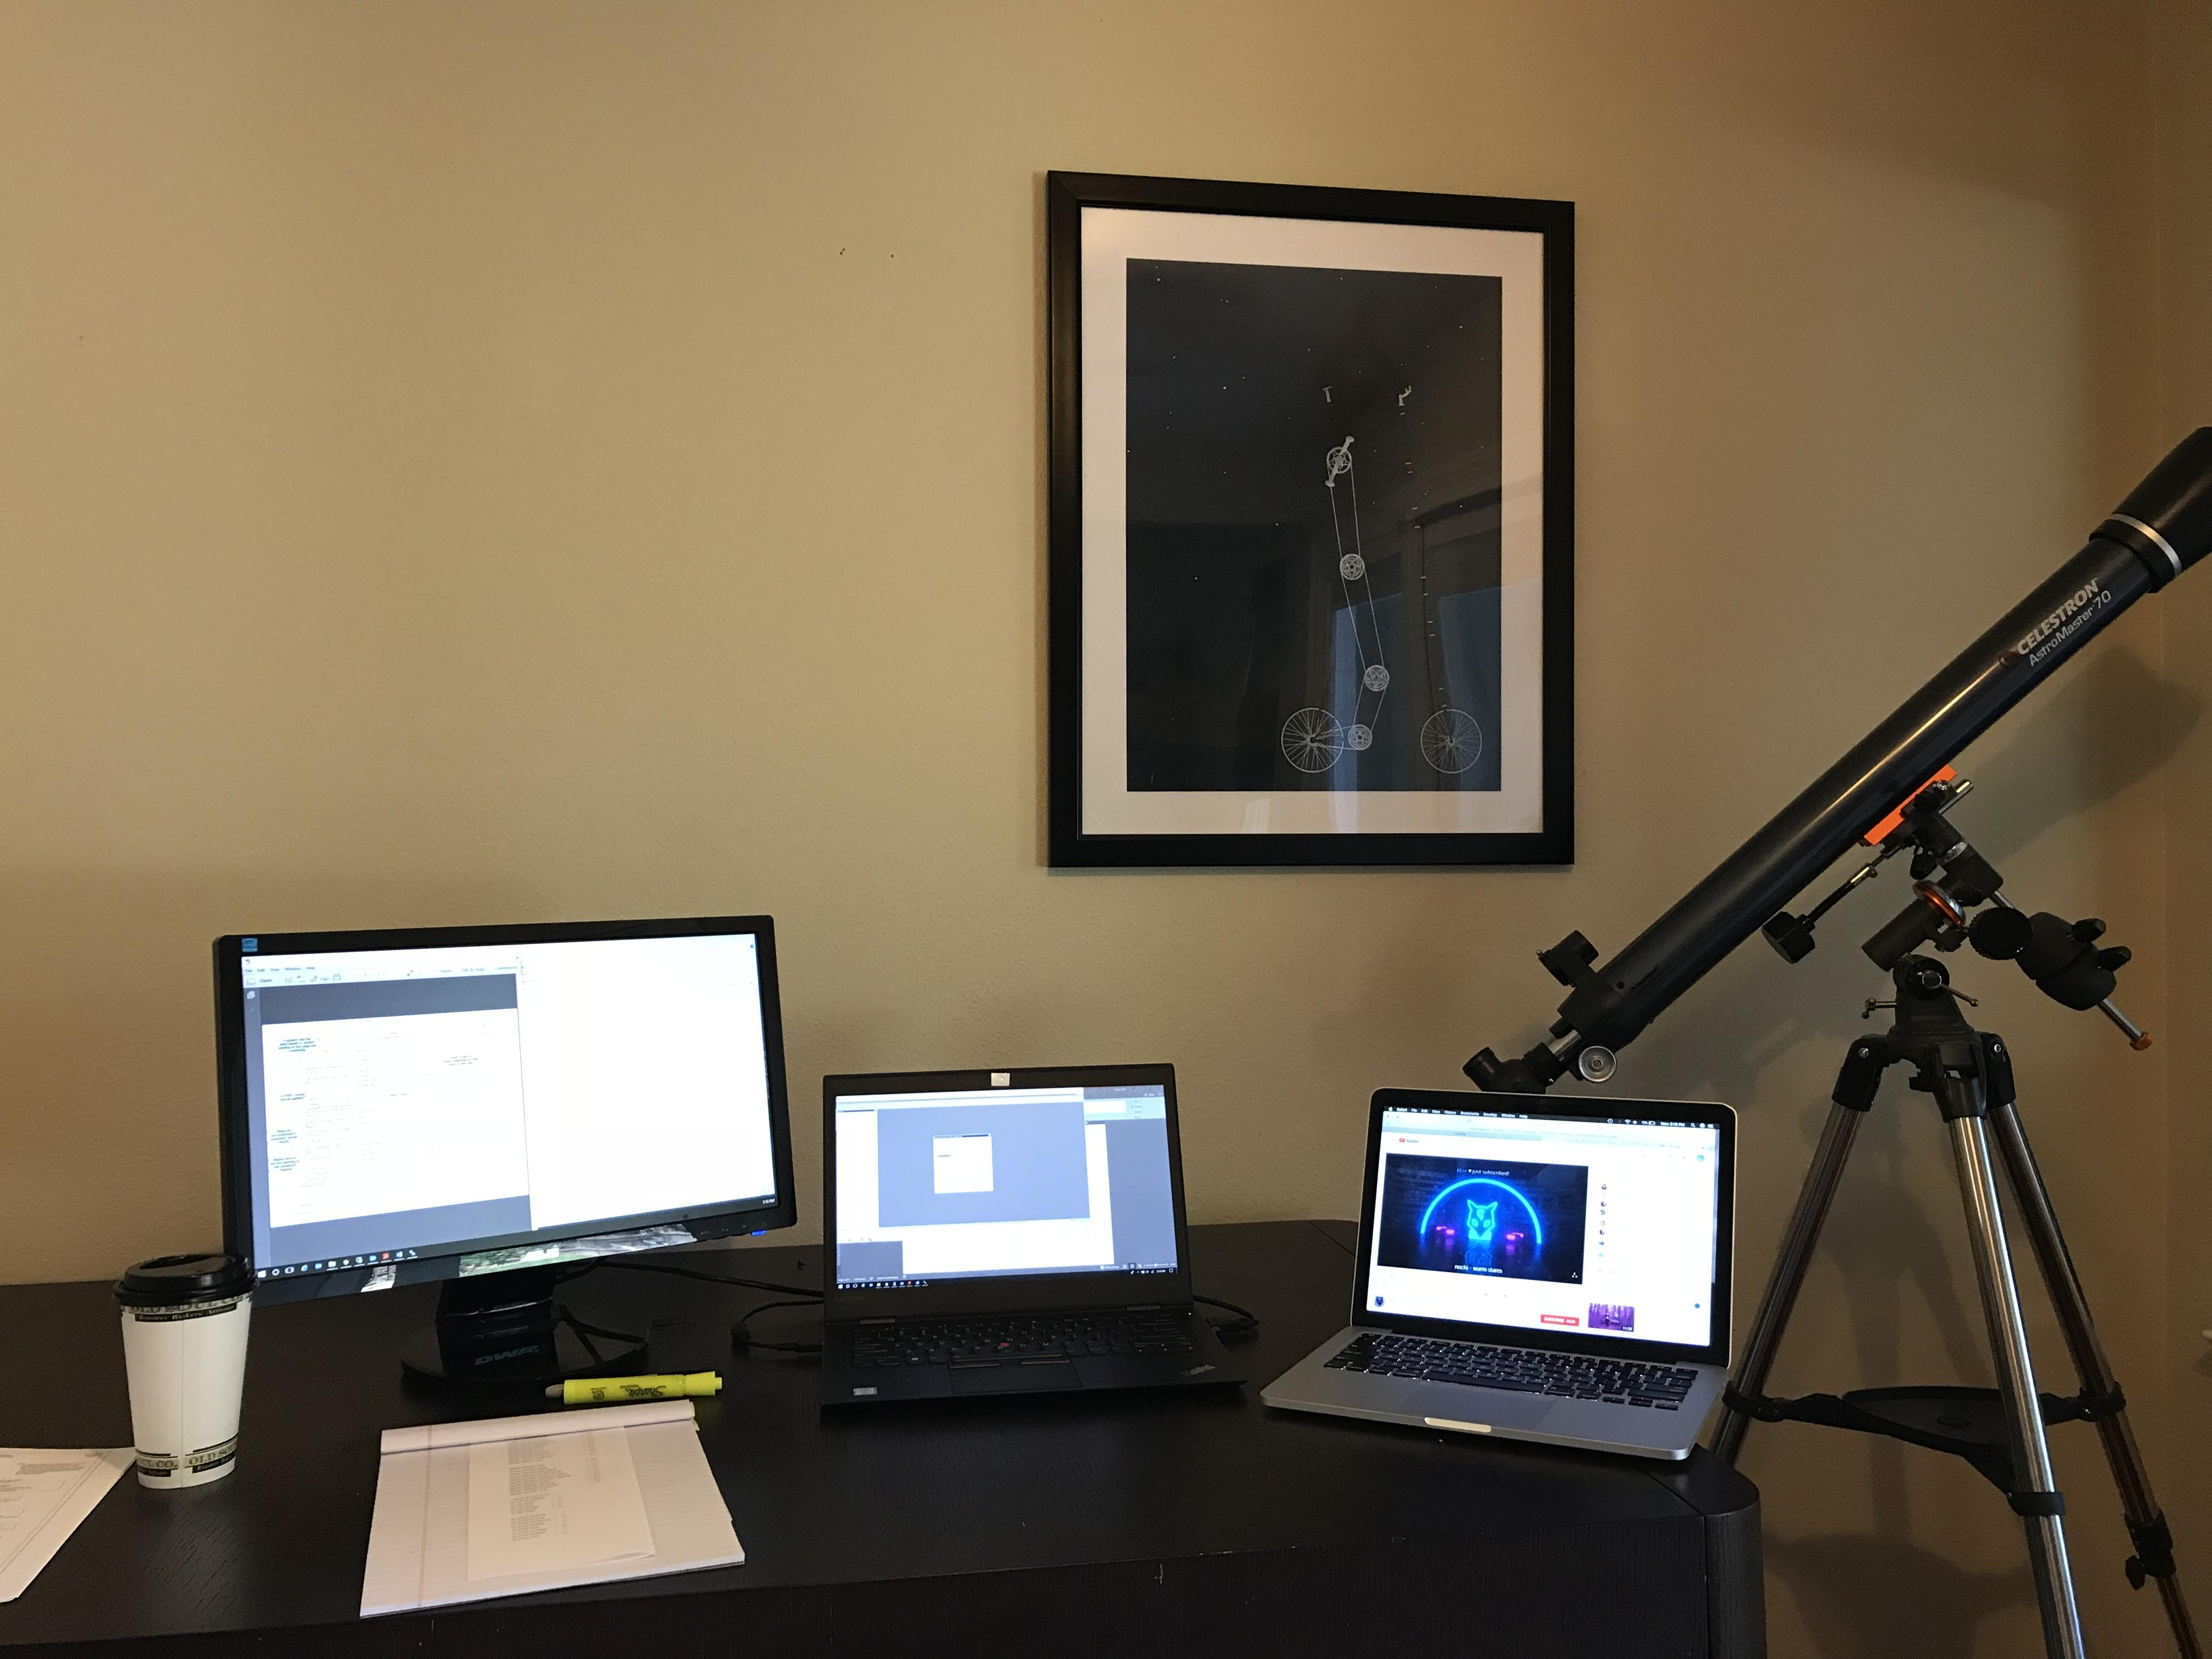Cup: (115, 1253, 256, 1492)
Decoration (Picture): (1040, 173, 1580, 875)
Desk (Generic): (0, 1222, 1761, 1659)
Laptop (OSX): (1254, 1084, 1742, 1473)
Laptop (Windows): (817, 1060, 1247, 1412)
Monitor (Landscape): (207, 913, 801, 1371)
Notebook: (355, 1396, 745, 1621)
